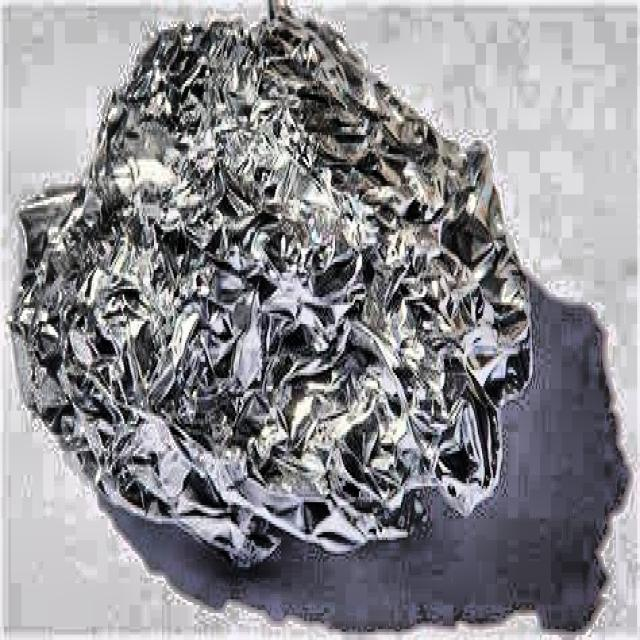Foil: (6, 0, 537, 593)
